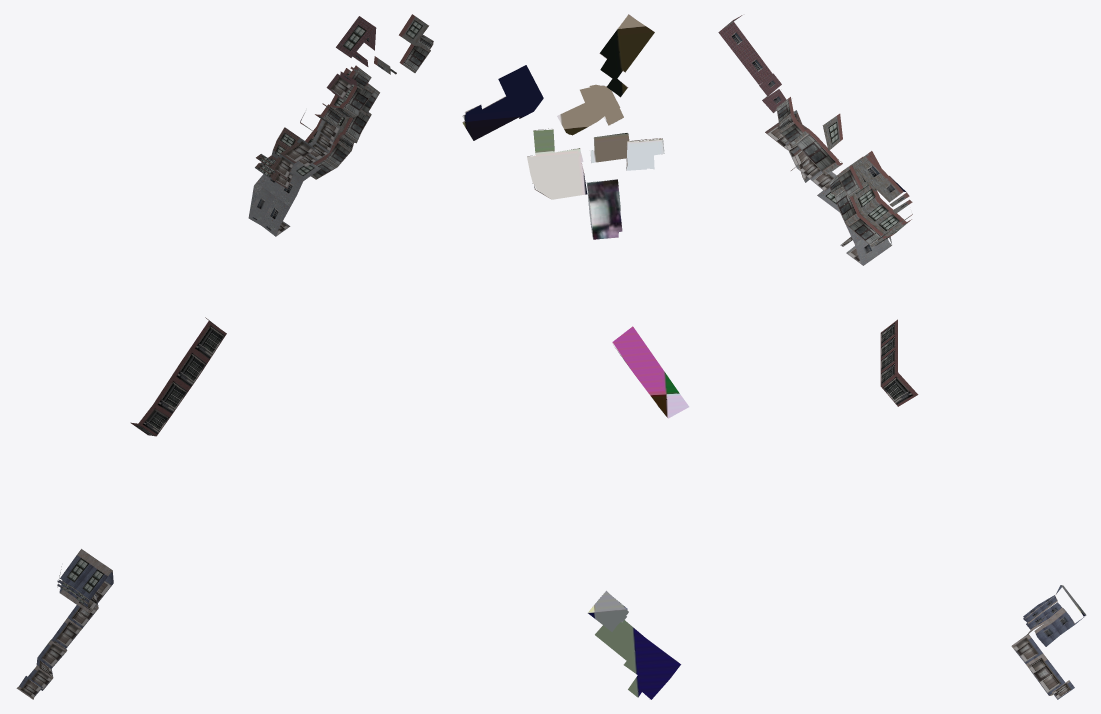
File: tile_LOD8_r3_c0.glb
The picture shows the model from 3 angles, left to right: view 1: azimuth 30°, elevation 25°; view 2: azimuth 150°, elevation 25°; view 3: azimuth 270°, elevation 25°; orthographic projection. The views are drawn at different scales.
Bounding box in the file's own units: 72.5 × 147 × 63.5.
Materials: 28 (28 with a texture image).
